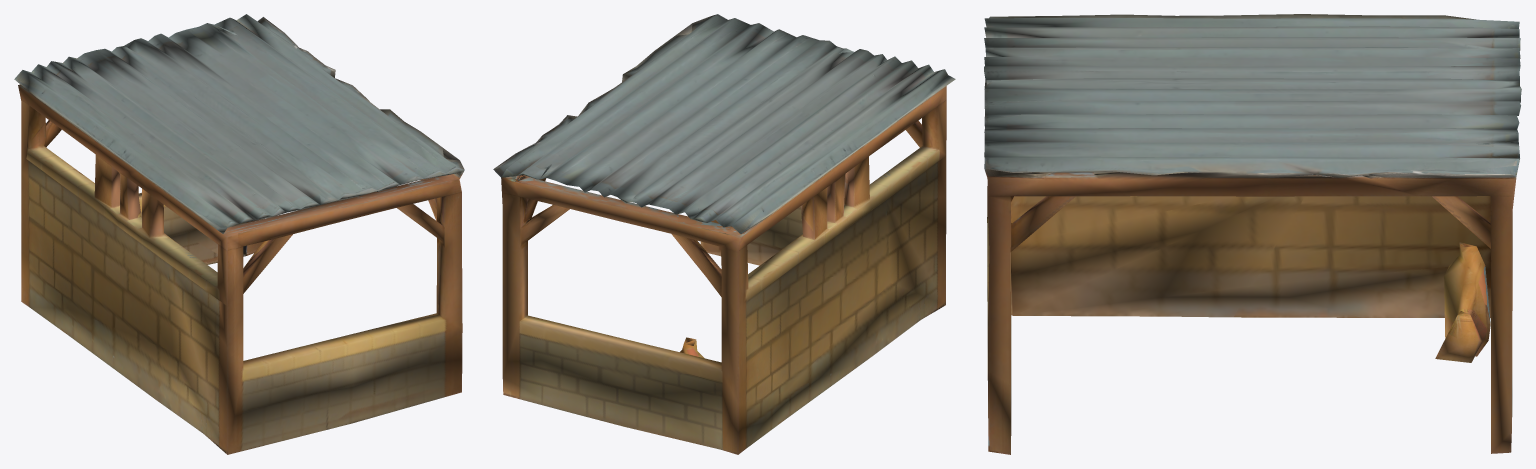
The model's file is Latin_American_Tracto_0726172727_texture.fbx.
3 views of the same model, side by side, from view 1: azimuth 30°, elevation 25°; view 2: azimuth 150°, elevation 25°; view 3: azimuth 270°, elevation 25° (orthographic). The views are drawn at different scales.
Visible parts, largest first — view 1: input; view 2: input; view 3: input.
Boxes of the visible parts, box(x1,y1,x2,y2) form: input: box(14, 14, 464, 454); input: box(493, 14, 955, 454); input: box(984, 14, 1521, 454).
Size of the model in its own units: 139 by 122 by 201.
1 material, 1 textured.
